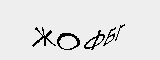Б: (105, 23, 116, 49)
Г: (116, 23, 127, 44)
Ж: (34, 27, 52, 48)
О: (56, 30, 81, 51)
Ф: (83, 29, 103, 54)
